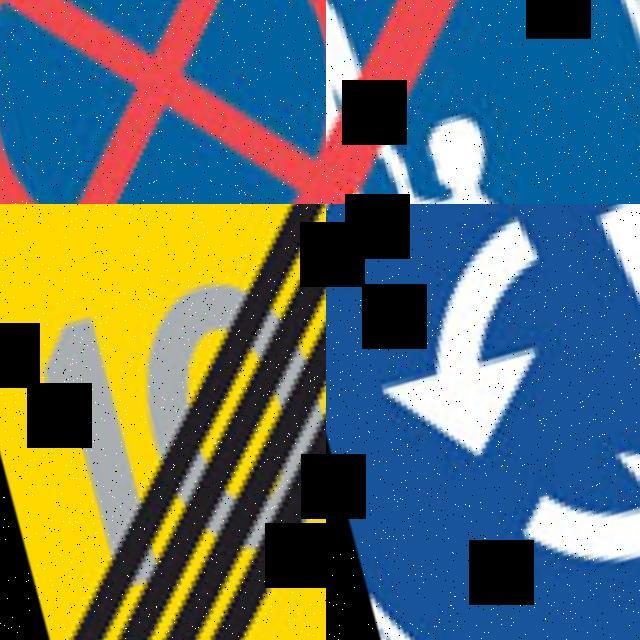112: (326, 0, 640, 204)
16: (326, 204, 640, 640)
Restriction zone: (0, 0, 326, 204)
Roundabout: (326, 204, 640, 640)
end of the speed limit: (0, 204, 326, 640)
